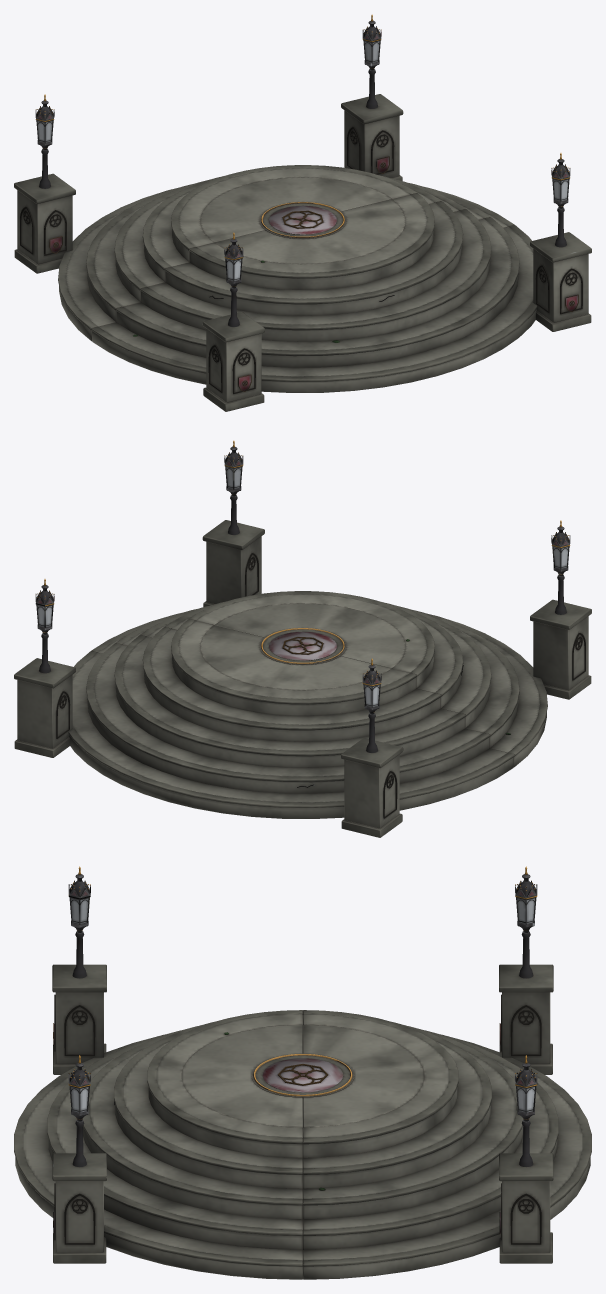
File: EntranceRoundDais.fbx
3 renders of one model, top to bottom at view 1: azimuth 30°, elevation 25°; view 2: azimuth 150°, elevation 25°; view 3: azimuth 270°, elevation 25°, orthographic. The views are drawn at different scales.
Parts seen in each view (by area): view 1: EntranceRoundDais_Main, EntranceRoundDais_Newels, EntranceRoundDais_Noses, EntranceRoundDais_Glass; view 2: EntranceRoundDais_Main, EntranceRoundDais_Newels, EntranceRoundDais_Noses, EntranceRoundDais_Glass; view 3: EntranceRoundDais_Main, EntranceRoundDais_Noses, EntranceRoundDais_Newels, EntranceRoundDais_Glass.
Part boxes in pixels (x1=…): EntranceRoundDais_Main: x1=59, y1=168, x2=536, y2=392; EntranceRoundDais_Newels: x1=14, y1=14, x2=591, y2=411; EntranceRoundDais_Noses: x1=58, y1=165, x2=537, y2=381; EntranceRoundDais_Glass: x1=37, y1=41, x2=568, y2=280; EntranceRoundDais_Main: x1=69, y1=594, x2=546, y2=818; EntranceRoundDais_Newels: x1=14, y1=440, x2=591, y2=837; EntranceRoundDais_Noses: x1=68, y1=591, x2=547, y2=807; EntranceRoundDais_Glass: x1=37, y1=467, x2=568, y2=706; EntranceRoundDais_Main: x1=15, y1=1014, x2=590, y2=1279; EntranceRoundDais_Noses: x1=14, y1=1010, x2=591, y2=1266; EntranceRoundDais_Newels: x1=52, y1=866, x2=553, y2=1263; EntranceRoundDais_Glass: x1=71, y1=898, x2=534, y2=1112.
Size of the model in its own units: 1908 by 719 by 1904.
